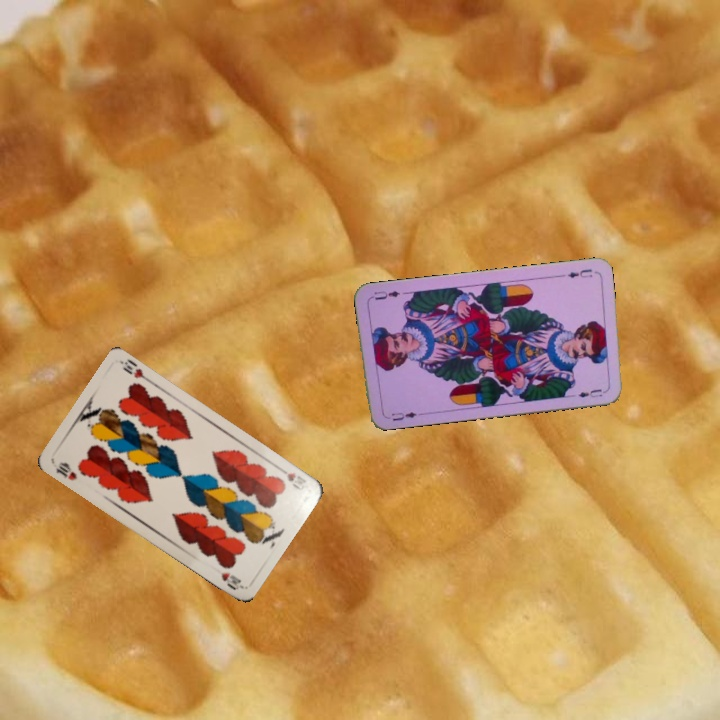EU: (556, 265, 595, 280), (388, 408, 422, 423)
H10: (274, 463, 310, 493), (52, 458, 80, 483)
